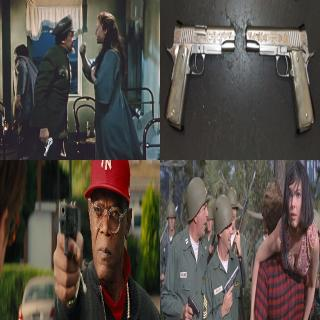gun: (244, 4, 316, 128), (165, 9, 233, 135), (52, 197, 78, 309), (221, 264, 238, 308), (185, 294, 200, 320), (38, 132, 52, 157)
